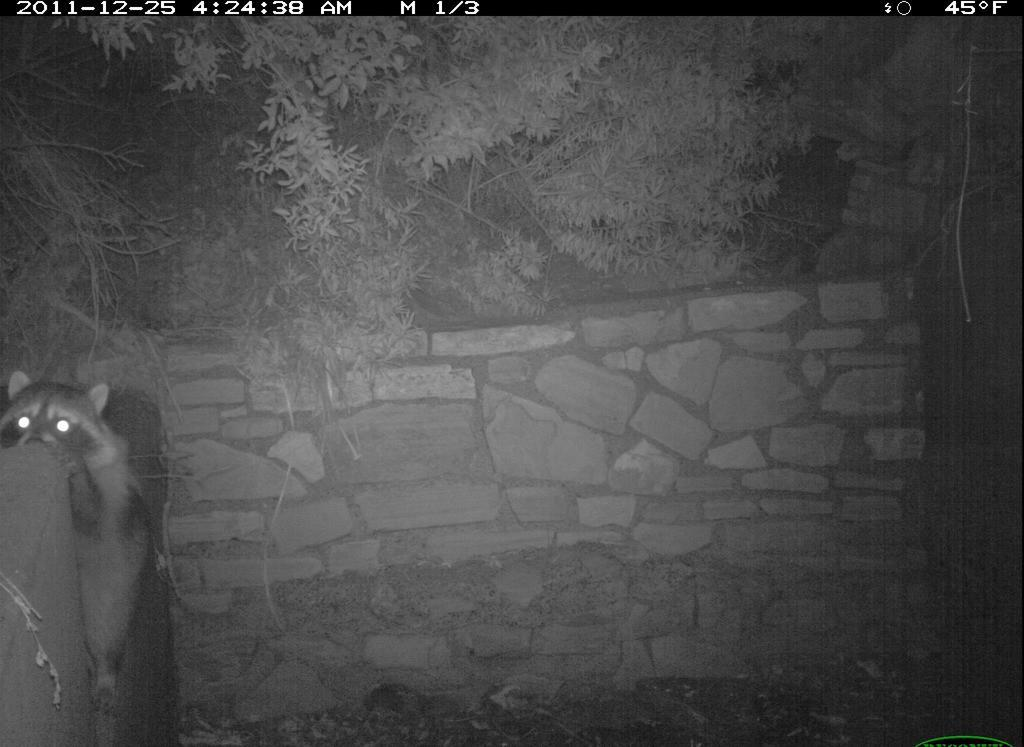raccoon: (2, 340, 177, 719)
